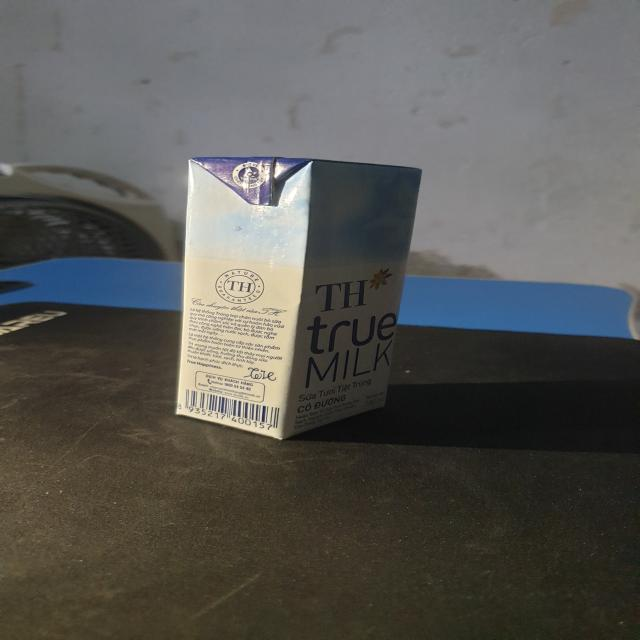TH: (168, 153, 432, 444)
